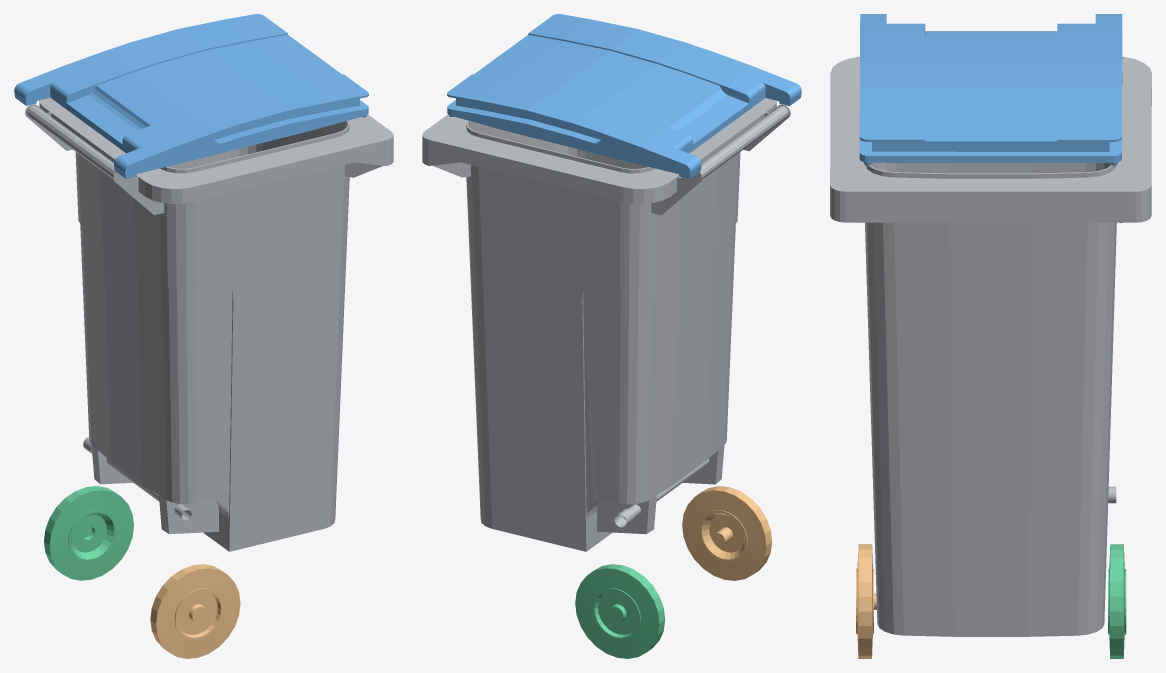
Rendered from parts.glb.
3 views of the same model, side by side, from view 1: azimuth 30°, elevation 25°; view 2: azimuth 150°, elevation 25°; view 3: azimuth 270°, elevation 25° (orthographic). The views are drawn at different scales.
Parts seen in each view (by area): view 1: visual_0_0, visual_1_0, visual_2_0, visual_3_0; view 2: visual_0_0, visual_1_0, visual_3_0, visual_2_0; view 3: visual_0_0, visual_1_0, visual_3_0, visual_2_0.
Part boxes in pixels (x1,y1,x2,y2): visual_0_0: [25, 97, 393, 551]; visual_1_0: [14, 14, 368, 178]; visual_2_0: [150, 564, 240, 658]; visual_3_0: [44, 486, 133, 580]; visual_0_0: [422, 98, 790, 551]; visual_1_0: [447, 14, 801, 179]; visual_3_0: [575, 564, 665, 658]; visual_2_0: [682, 486, 772, 580]; visual_0_0: [830, 31, 1151, 636]; visual_1_0: [859, 14, 1122, 165]; visual_3_0: [1108, 544, 1126, 658]; visual_2_0: [856, 544, 876, 658].
Size of the model in its own units: 1.06 by 2.03 by 0.9586.
